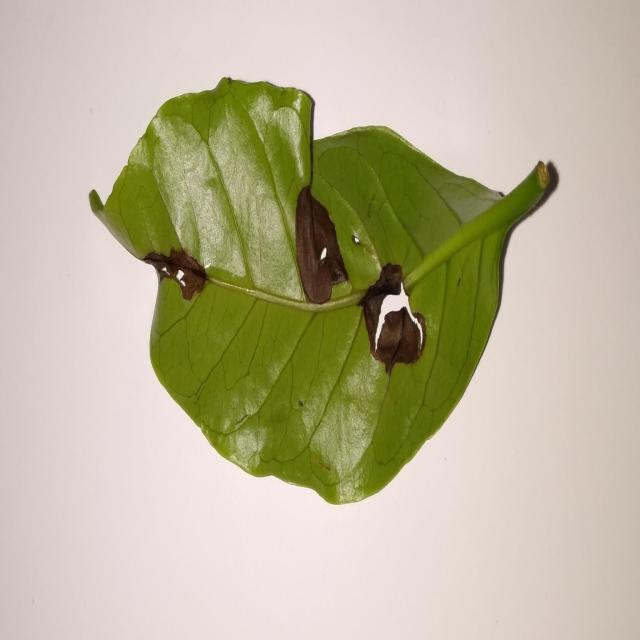Enfermedad-Antracnosis: (87, 78, 561, 508)
